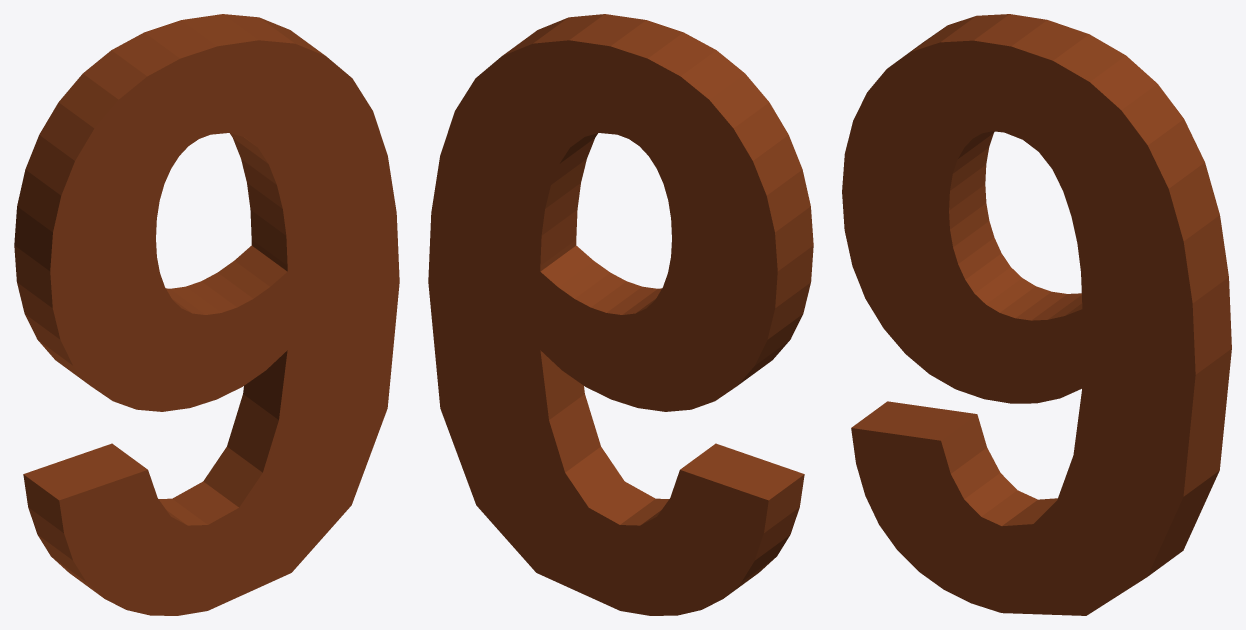
Rendered from num_9.glb.
3 renders of one model, left to right at view 1: azimuth 30°, elevation 25°; view 2: azimuth 150°, elevation 25°; view 3: azimuth 330°, elevation 25°, orthographic.
Parts seen in each view (by area): view 1: num_9; view 2: num_9; view 3: num_9.
Boxes of the visible parts, bbox=[...] form: num_9: bbox=[14, 14, 399, 615]; num_9: bbox=[428, 14, 813, 615]; num_9: bbox=[842, 14, 1231, 615].
Bounding box in the file's own units: 1.12 × 1.73 × 0.2.
